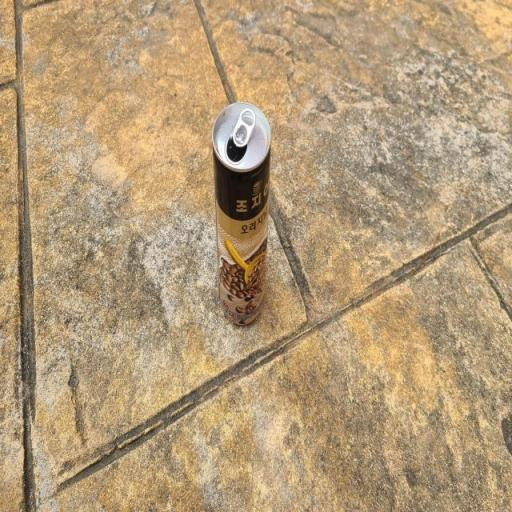metal: (197, 82, 290, 326)
